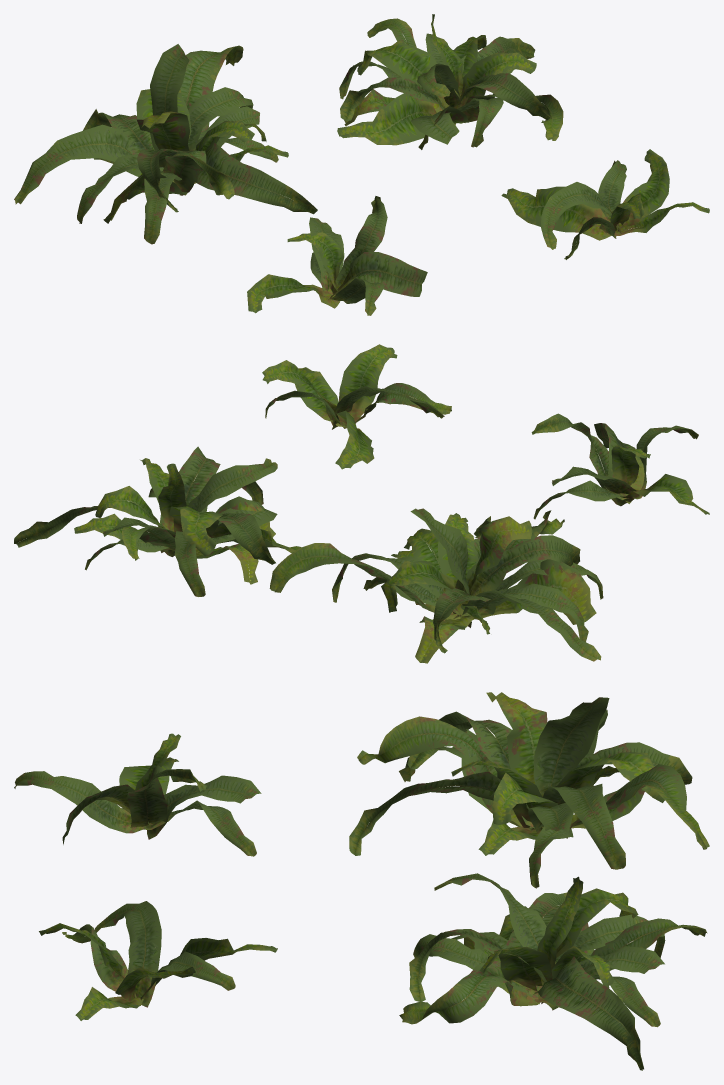
The model's file is WorldFern.obj.
The picture shows the model from 3 angles, top to bottom: view 1: azimuth 30°, elevation 25°; view 2: azimuth 150°, elevation 25°; view 3: azimuth 270°, elevation 25°; orthographic projection. The views are drawn at different scales.
Parts seen in each view (by area): view 1: WorldFern; view 2: WorldFern; view 3: WorldFern.
Boxes of the visible parts, x1=… form: WorldFern: x1=14, y1=14, x2=709, y2=315; WorldFern: x1=14, y1=344, x2=709, y2=663; WorldFern: x1=14, y1=692, x2=709, y2=1070.
Bounding box in the file's own units: 4.61 × 1 × 4.03.
